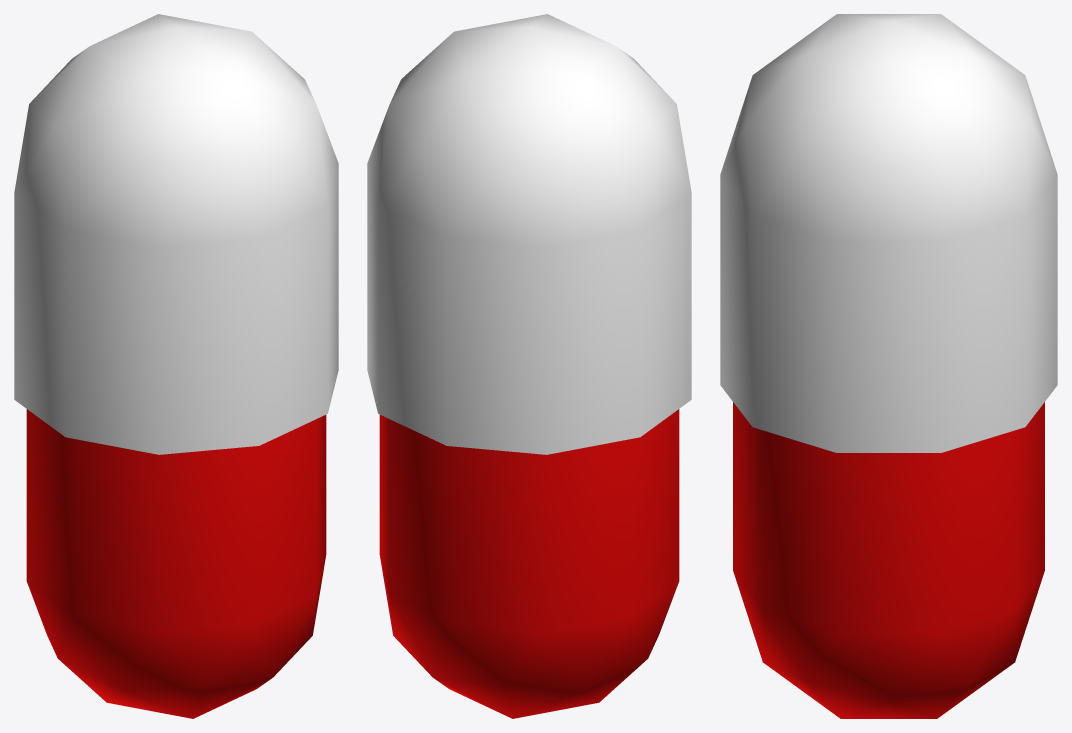
Rendered from Capsule_Pill.fbx.
The picture shows the model from 3 angles, left to right: view 1: azimuth 30°, elevation 25°; view 2: azimuth 150°, elevation 25°; view 3: azimuth 270°, elevation 25°; orthographic projection.
Parts seen in each view (by area): view 1: Barrel; view 2: Barrel; view 3: Barrel.
Part boxes in pixels (<box>): Barrel: <box>14,14,338,718</box>; Barrel: <box>367,14,691,718</box>; Barrel: <box>720,14,1057,718</box>.
Size of the model in its own units: 206 by 489 by 216.
